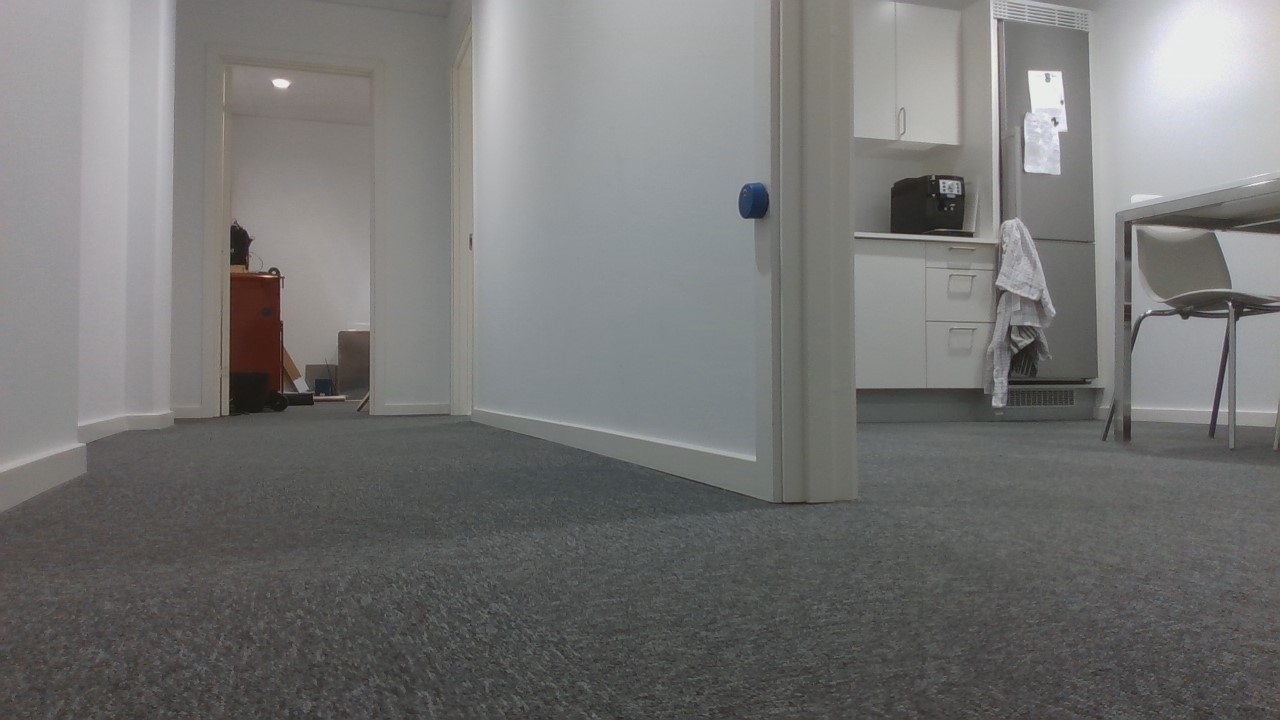alfa: (735, 178, 770, 221)
